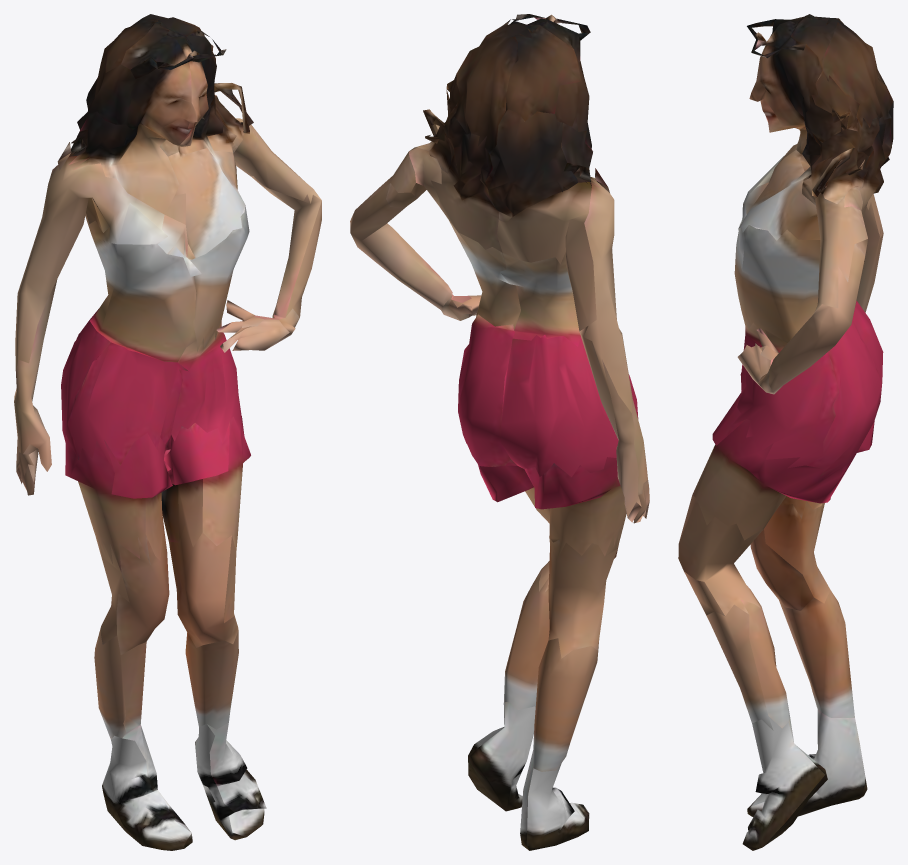
File: bule_cewek_2_idle_lod2.glb
The picture shows the model from 3 angles, left to right: view 1: azimuth 30°, elevation 25°; view 2: azimuth 150°, elevation 25°; view 3: azimuth 270°, elevation 25°; orthographic projection.
Visible parts, largest first — view 1: tripo_node_4a5a88c2; view 2: tripo_node_4a5a88c2; view 3: tripo_node_4a5a88c2.
Part boxes in pixels (bbox=[...]): tripo_node_4a5a88c2: bbox=[14, 14, 321, 850]; tripo_node_4a5a88c2: bbox=[350, 14, 649, 850]; tripo_node_4a5a88c2: bbox=[678, 14, 893, 850].
Bounding box in the file's own units: 37.86 × 99.15 × 23.96.
1 material, 1 textured.
